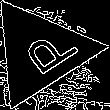P_SW: (6, 22, 75, 82)
